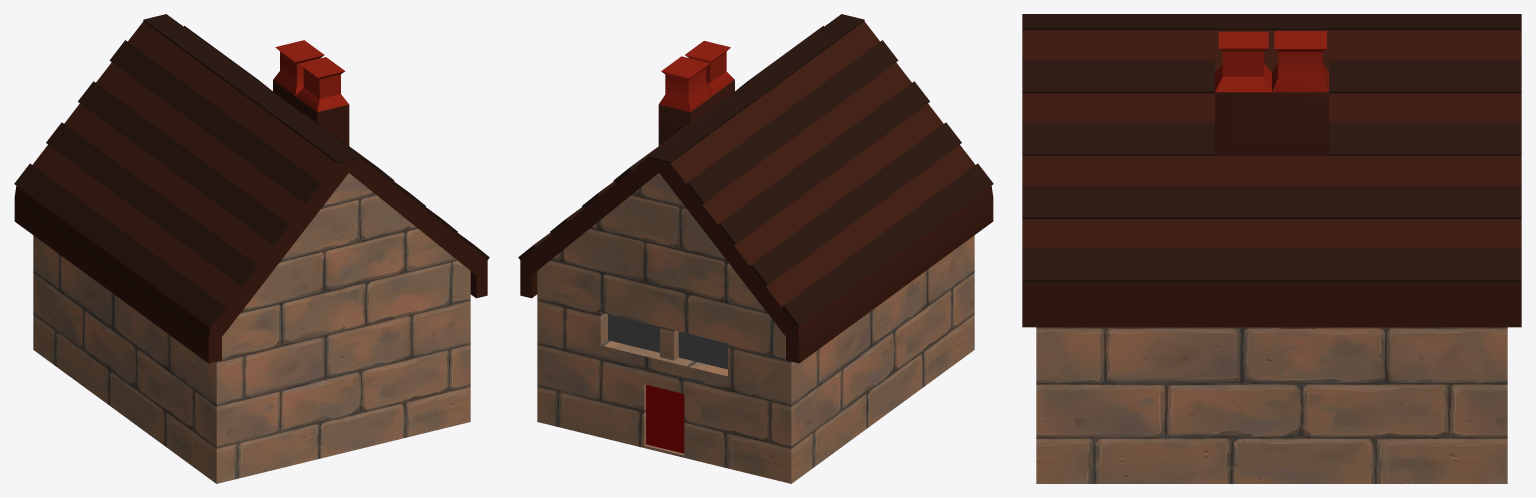
The model's file is House3.FBX.
3 renders of one model, left to right at view 1: azimuth 30°, elevation 25°; view 2: azimuth 150°, elevation 25°; view 3: azimuth 270°, elevation 25°, orthographic. The views are drawn at different scales.
Parts seen in each view (by area): view 1: Box007; view 2: Box007; view 3: Box007.
Boxes of the visible parts, <box> form: Box007: <box>14,14,489,483</box>; Box007: <box>518,14,993,483</box>; Box007: <box>1022,14,1521,483</box>.
Bounding box in the file's own units: 22.21 × 26.53 × 23.54.
6 materials, 1 textured.
